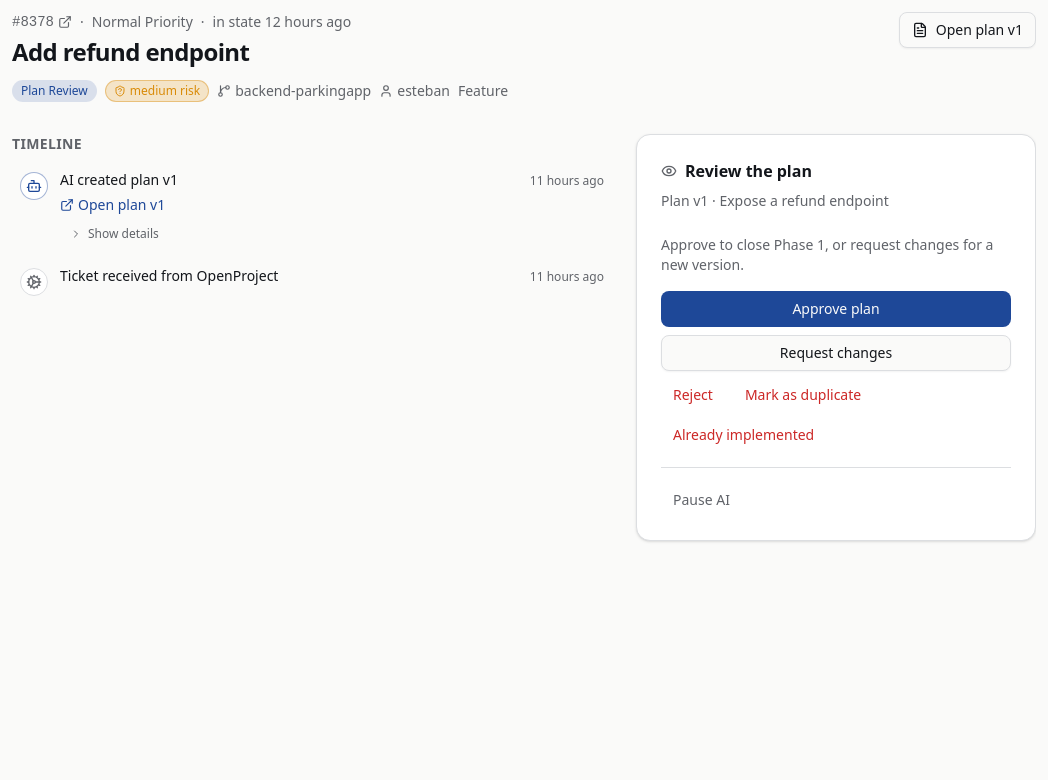
TicketPageContainer approve flow › posts an empty approve body for medium risk, toasts and refreshes the state chip
Expected: the heading "Add refund endpoint" is shown, [12,35,249,68]
Expected: the text "AI created plan v1" is shown, [60,170,178,190]
Click the button "Approve plan" at [836, 309], box [661,291,1011,327]
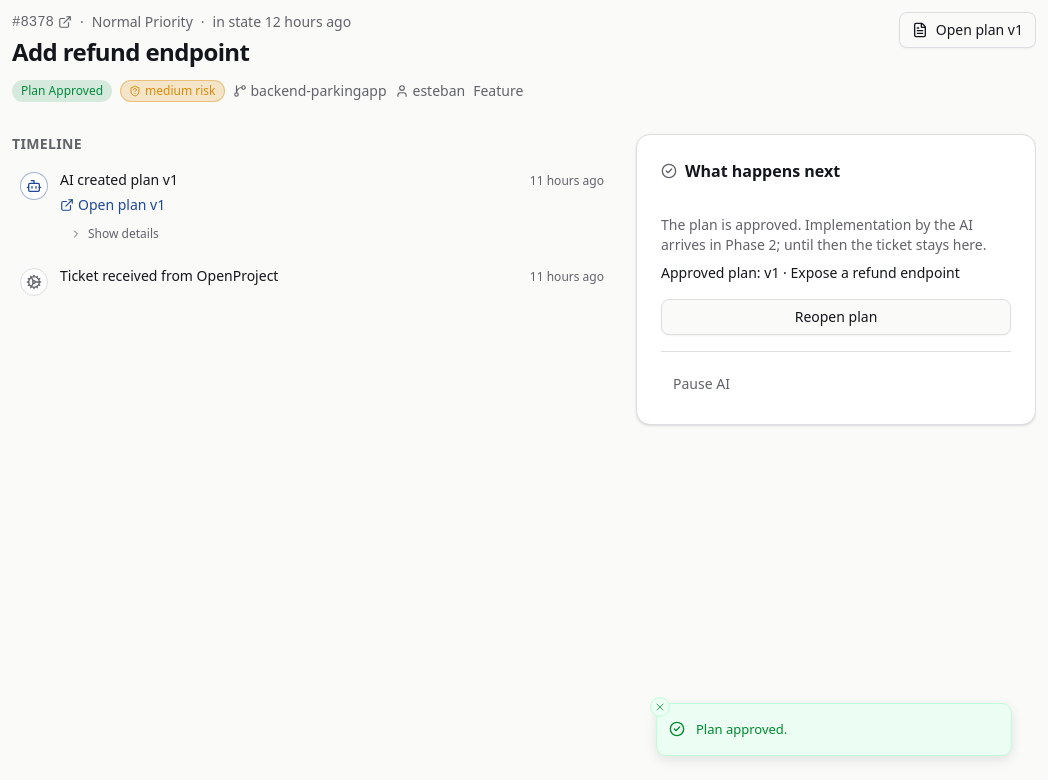
Expected: the text "Plan approved." is shown, [696,720,787,739]
Expected: the text "plan approved" is shown, [12,80,112,102]
